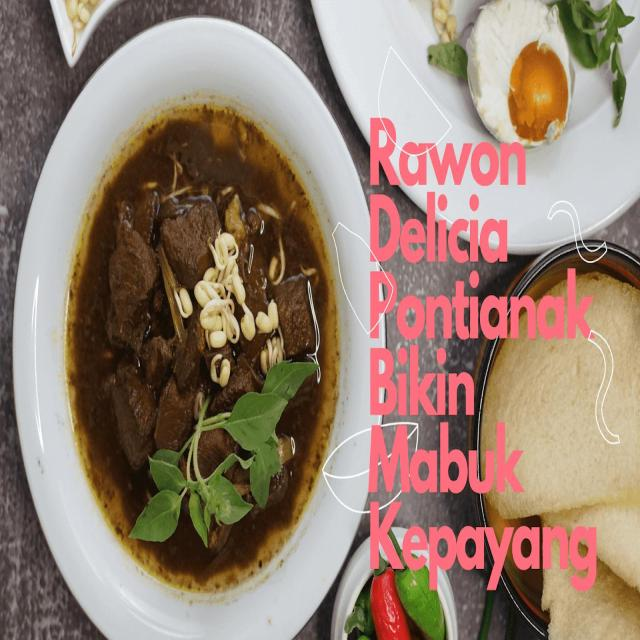Rawon: (60, 102, 333, 574)
